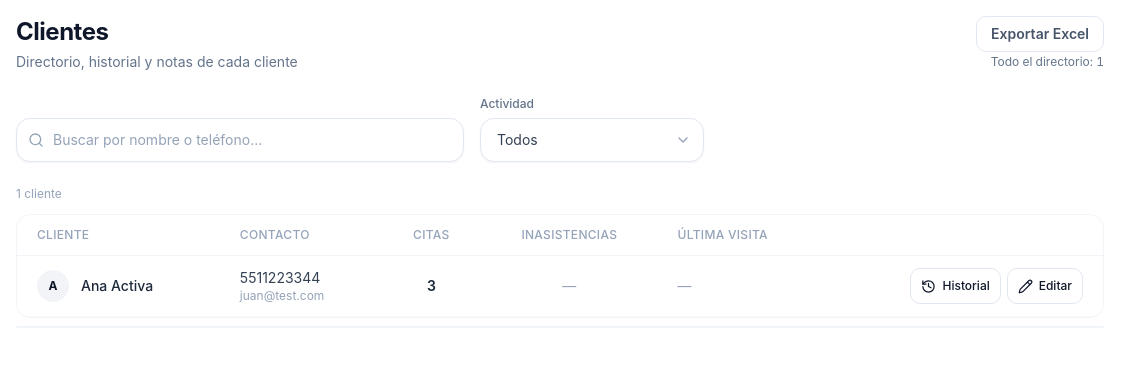
Test: ClientesPage — filtro de actividad › los conteos vienen del resumen, no de la página visible
Click the button named "Actividad".
click(592, 140)  # box [480,118,704,162]
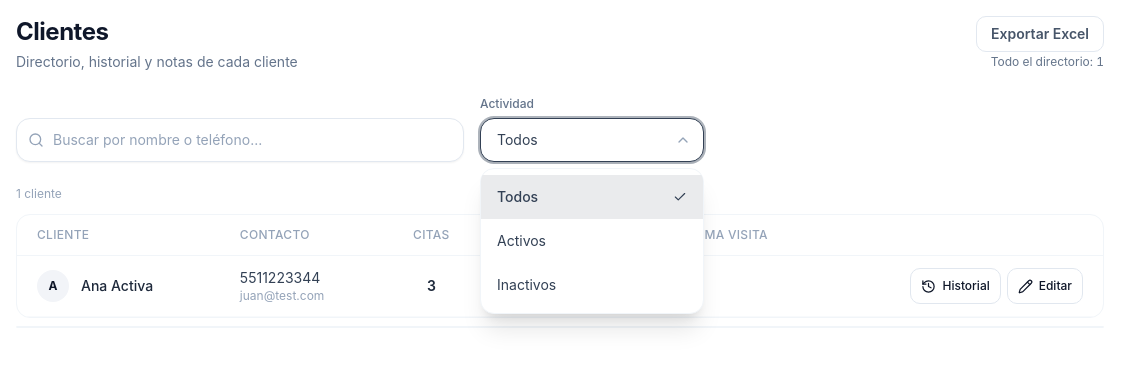
Click the option "Activos".
click(592, 241)  # box [481,219,703,263]
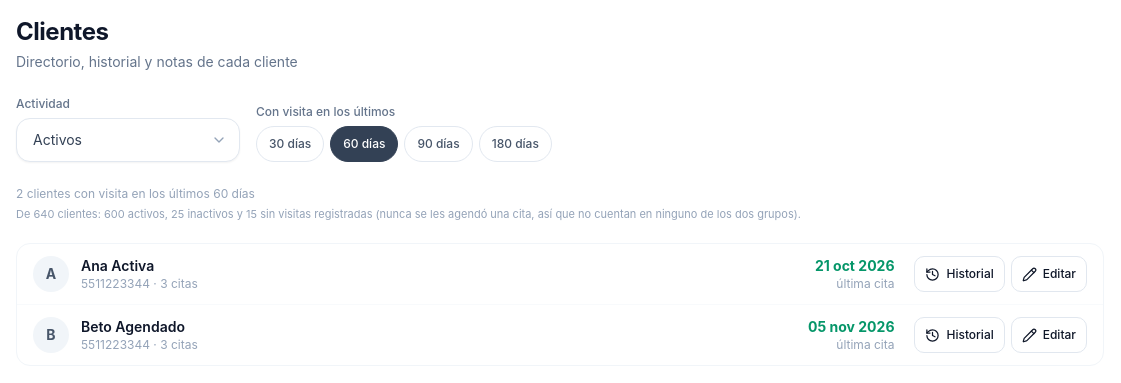
Check: the text "De 640 clientes: 600 activos, 25 inactivos y 15 sin visitas registradas" is shown, box [16,207,801,221]
